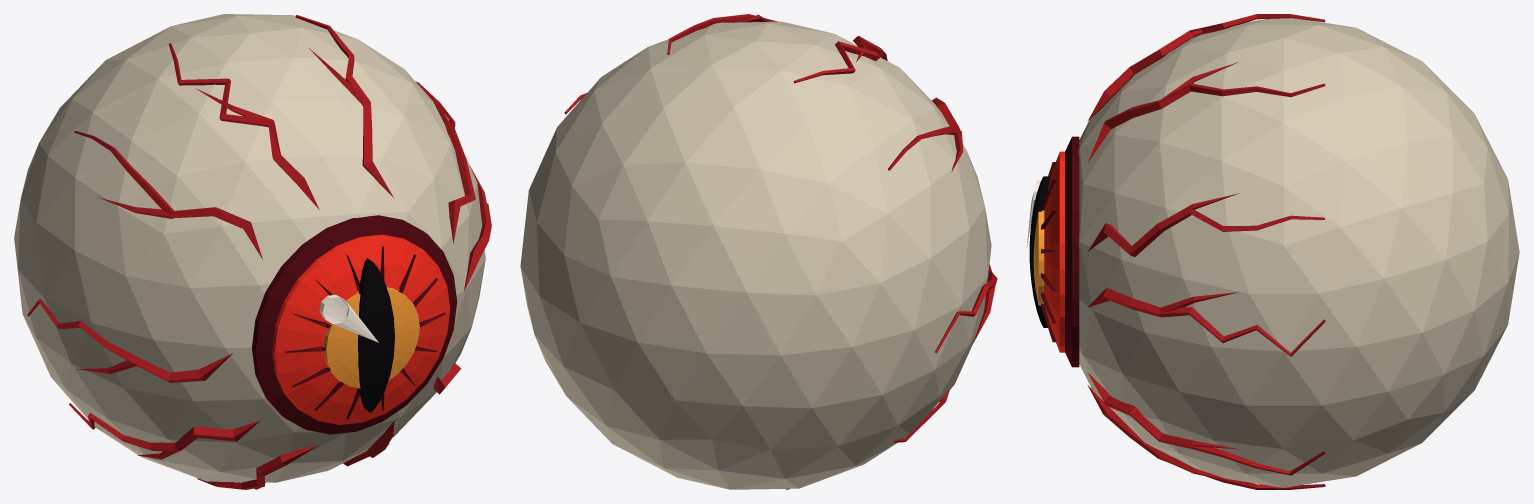
The model's file is BossEyeBall.obj.
3 renders of one model, left to right at view 1: azimuth 30°, elevation 25°; view 2: azimuth 150°, elevation 25°; view 3: azimuth 270°, elevation 25°, orthographic.
Parts seen in each view (by area): view 1: BossEyeBall; view 2: BossEyeBall; view 3: BossEyeBall.
Boxes of the visible parts, box(x1,y1,x2,y2) form: BossEyeBall: box(14, 14, 491, 489); BossEyeBall: box(520, 14, 997, 489); BossEyeBall: box(1026, 14, 1519, 489).
Bounding box in the file's own units: 4.46 × 4.4 × 4.6.
